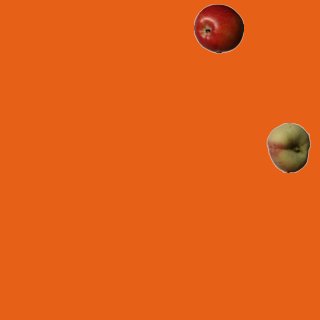Apple Braeburn: (193, 3, 243, 53)
Peach Flat: (263, 122, 313, 172)
